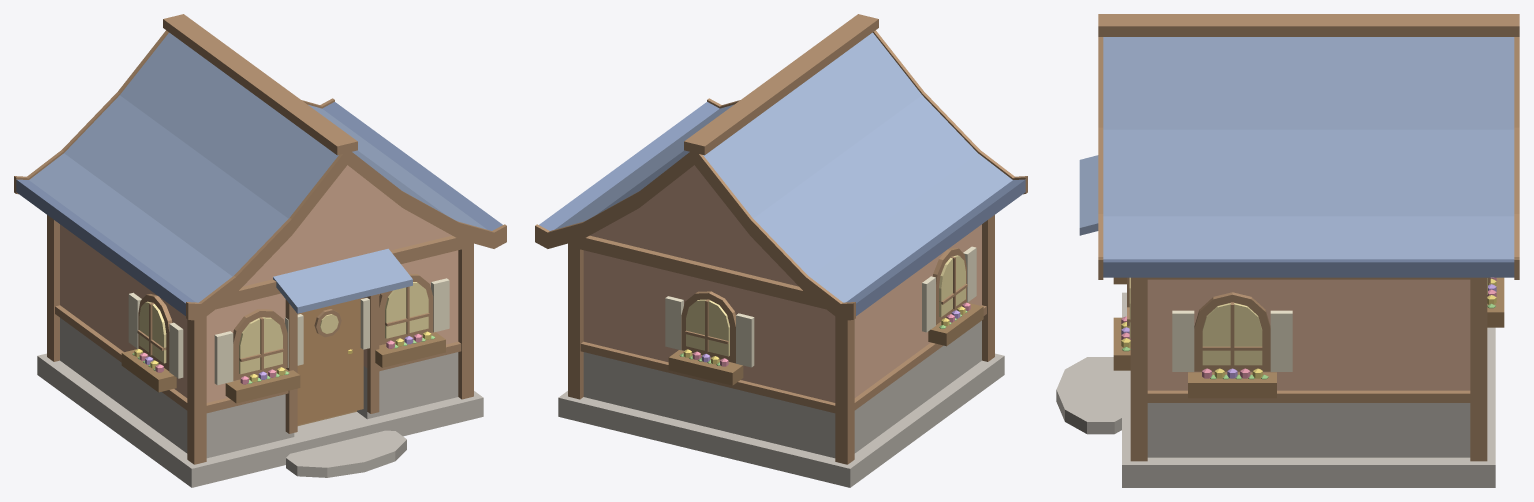
File: cottage_brick.glb
3 views of the same model, side by side, from view 1: azimuth 30°, elevation 25°; view 2: azimuth 150°, elevation 25°; view 3: azimuth 270°, elevation 25° (orthographic). The views are drawn at different scales.
Parts seen in each view (by area): view 1: Player; view 2: Player; view 3: Player.
Part boxes in pixels (bbox=[...]): Player: bbox=[14, 14, 506, 487]; Player: bbox=[535, 14, 1027, 487]; Player: bbox=[1056, 14, 1519, 487].
Size of the model in its own units: 5.24 by 4.96 by 5.45.
